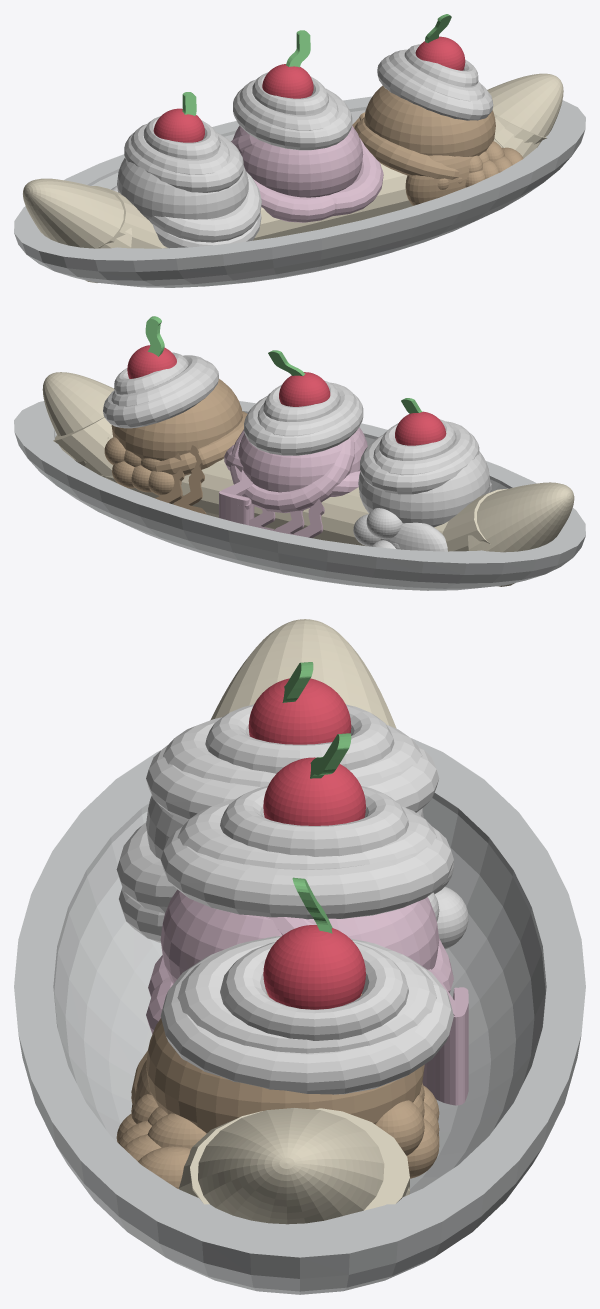
File: banana.glb
3 renders of one model, top to bottom at view 1: azimuth 30°, elevation 25°; view 2: azimuth 150°, elevation 25°; view 3: azimuth 270°, elevation 25°, orthographic. The views are drawn at different scales.
Visible parts, largest first — view 1: Mesh_Mesh_head_geo.001_lambert2SG.001; view 2: Mesh_Mesh_head_geo.001_lambert2SG.001; view 3: Mesh_Mesh_head_geo.001_lambert2SG.001.
Boxes of the visible parts, box(x1,y1,x2,y2) form: Mesh_Mesh_head_geo.001_lambert2SG.001: box(14, 14, 585, 287); Mesh_Mesh_head_geo.001_lambert2SG.001: box(14, 316, 585, 590); Mesh_Mesh_head_geo.001_lambert2SG.001: box(14, 619, 585, 1294).
Size of the model in its own units: 65 by 23 by 29.
